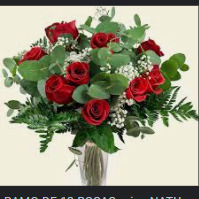RedRose: (43, 17, 80, 47), (42, 70, 72, 104), (81, 99, 115, 127), (124, 76, 149, 109), (61, 60, 89, 85), (144, 66, 165, 99), (134, 34, 159, 58), (89, 30, 115, 51), (15, 46, 45, 64)
